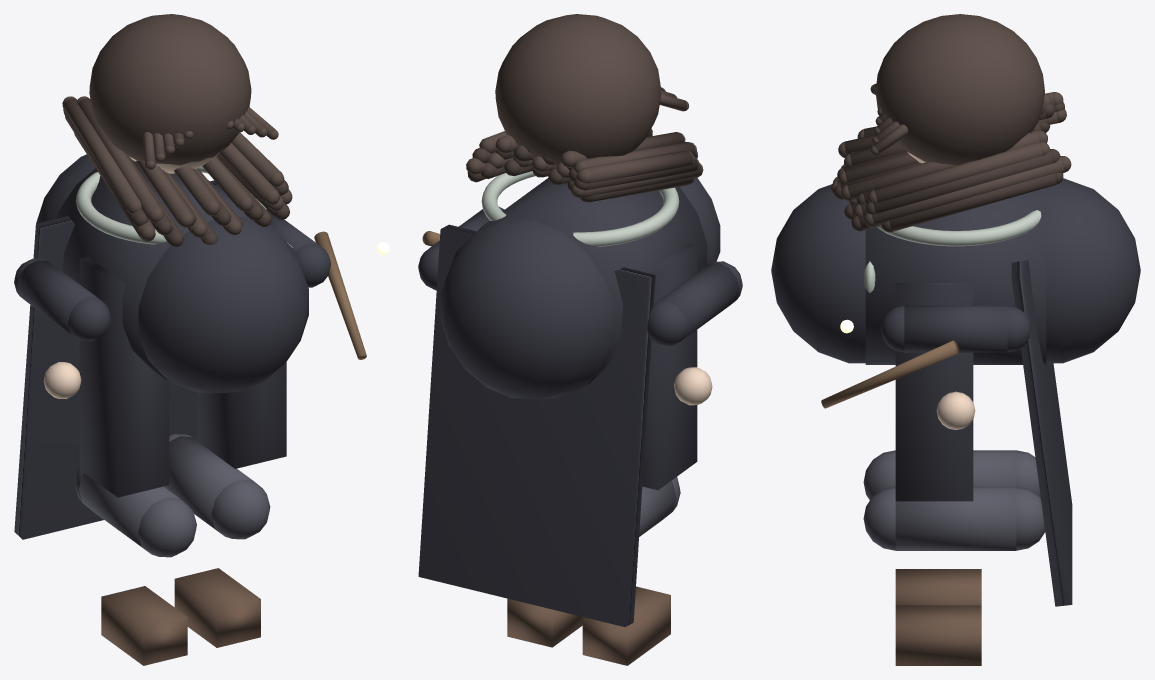
The model's file is bellatrix.glb.
The picture shows the model from 3 angles, left to right: view 1: azimuth 30°, elevation 25°; view 2: azimuth 150°, elevation 25°; view 3: azimuth 270°, elevation 25°; orthographic projection. The views are drawn at different scales.
Visible parts, largest first — view 1: torso_top, crown, cloak, robe_panel_l, torso_body, robe_panel_r, boot, boot.001, thigh_body.001, upperL_body, thigh_top.001, thigh_top (+15 smaller); view 2: cloak, torso_bot, crown, torso_body, robe_panel_l, boot, upperL_body, trim, boot.001, lock_0_body, torso_top, upperL_bot (+8 smaller); view 3: crown, torso_body, torso_bot, torso_top, robe_panel_r, cloak, thigh_body.001, boot.001, upperR_body, boot, lock_24_body, trim (+14 smaller).
Part boxes in pixels (<box>): torso_top: <box>138,217,308,393</box>; crown: <box>89,14,251,165</box>; cloak: <box>14,180,223,539</box>; robe_panel_l: <box>79,257,169,497</box>; torso_body: <box>56,160,273,380</box>; robe_panel_r: <box>197,362,286,468</box>; boot: <box>101,586,187,665</box>; boot.001: <box>174,568,260,647</box>; thigh_body.001: <box>164,436,251,533</box>; upperL_body: <box>17,260,97,337</box>; thigh_top.001: <box>211,479,270,539</box>; thigh_top: <box>138,497,196,557</box>; cloak: <box>418,224,655,626</box>; torso_bot: <box>440,219,614,399</box>; crown: <box>495,14,661,168</box>; torso_body: <box>477,178,707,385</box>; robe_panel_l: <box>642,243,697,490</box>; boot: <box>582,586,670,665</box>; upperL_body: <box>657,263,739,341</box>; trim: <box>481,171,679,246</box>; boot.001: <box>507,598,582,647</box>; lock_0_body: <box>584,151,693,183</box>; torso_top: <box>680,178,720,264</box>; upperL_bot: <box>647,301,687,345</box>; crown: <box>875,14,1044,165</box>; torso_body: <box>865,188,1046,364</box>; torso_bot: <box>1046,178,1140,363</box>; torso_top: <box>771,184,865,363</box>; robe_panel_r: <box>895,283,973,501</box>; cloak: <box>1011,260,1072,606</box>; thigh_body.001: <box>895,486,1016,550</box>; boot.001: <box>895,605,981,665</box>; upperR_body: <box>904,305,1007,352</box>; boot: <box>895,569,981,605</box>; lock_24_body: <box>874,142,1043,202</box>; trim: <box>877,210,1041,246</box>.
Bounding box in the file's own units: 0.7987 × 1.58 × 0.86.
